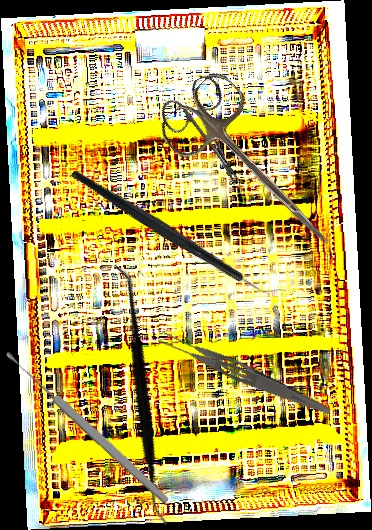Chopper: (70, 114, 285, 351)
Dressing Forceps: (155, 327, 335, 419)
Iris Scissors: (154, 67, 362, 272), (154, 71, 268, 202)
Spatula Surgical: (12, 261, 268, 529)
Surgical Spoon: (3, 348, 171, 506)
